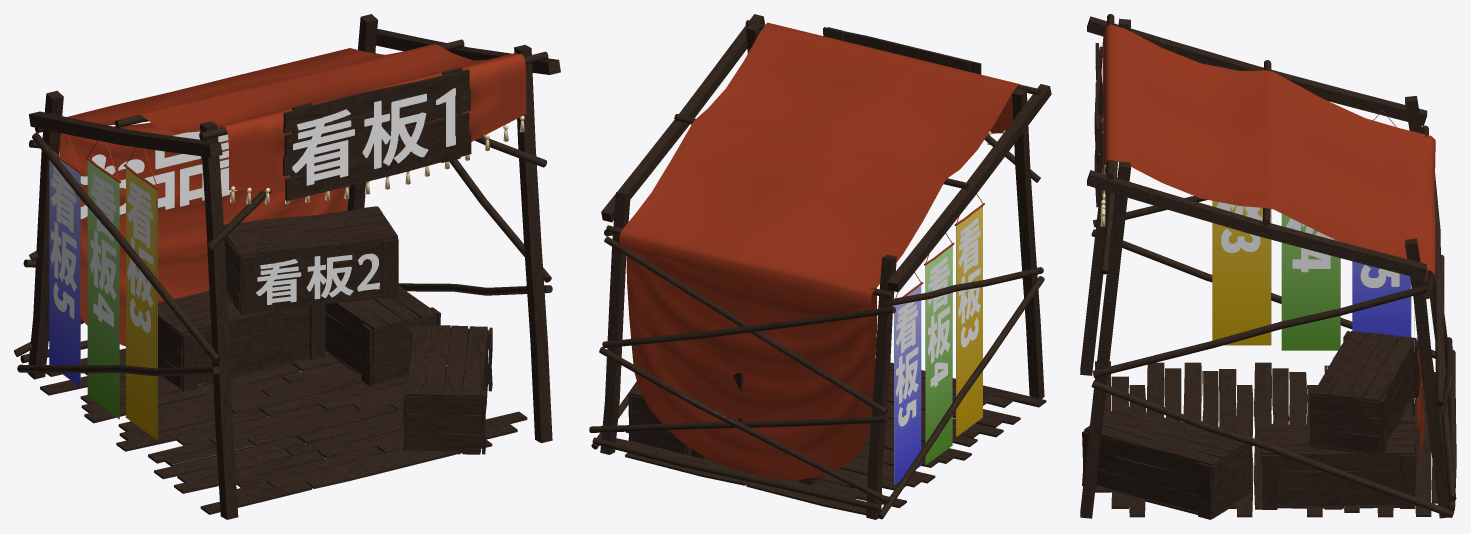
File: TempleteBooth-rev2.fbx
The picture shows the model from 3 angles, left to right: view 1: azimuth 30°, elevation 25°; view 2: azimuth 150°, elevation 25°; view 3: azimuth 270°, elevation 25°; orthographic projection. The views are drawn at different scales.
Visible parts, largest first — view 1: Frame, Sheat, Sign; view 2: Sheat, Frame, Sign; view 3: Frame, Sheat, Sign.
Boxes of the visible parts, x1=… form: Frame: x1=14, y1=14, x2=560, y2=519; Sheat: x1=49, y1=44, x2=526, y2=439; Sign: x1=49, y1=88, x2=455, y2=440; Sheat: x1=619, y1=22, x2=1019, y2=484; Frame: x1=589, y1=14, x2=1051, y2=519; Sign: x1=829, y1=27, x2=983, y2=484; Frame: x1=1080, y1=14, x2=1456, y2=519; Sheat: x1=1100, y1=24, x2=1435, y2=458; Sign: x1=1216, y1=202, x2=1414, y2=380.
Bounding box in the file's own units: 397 × 417 × 395.
Materials: 1 (1 with a texture image).
